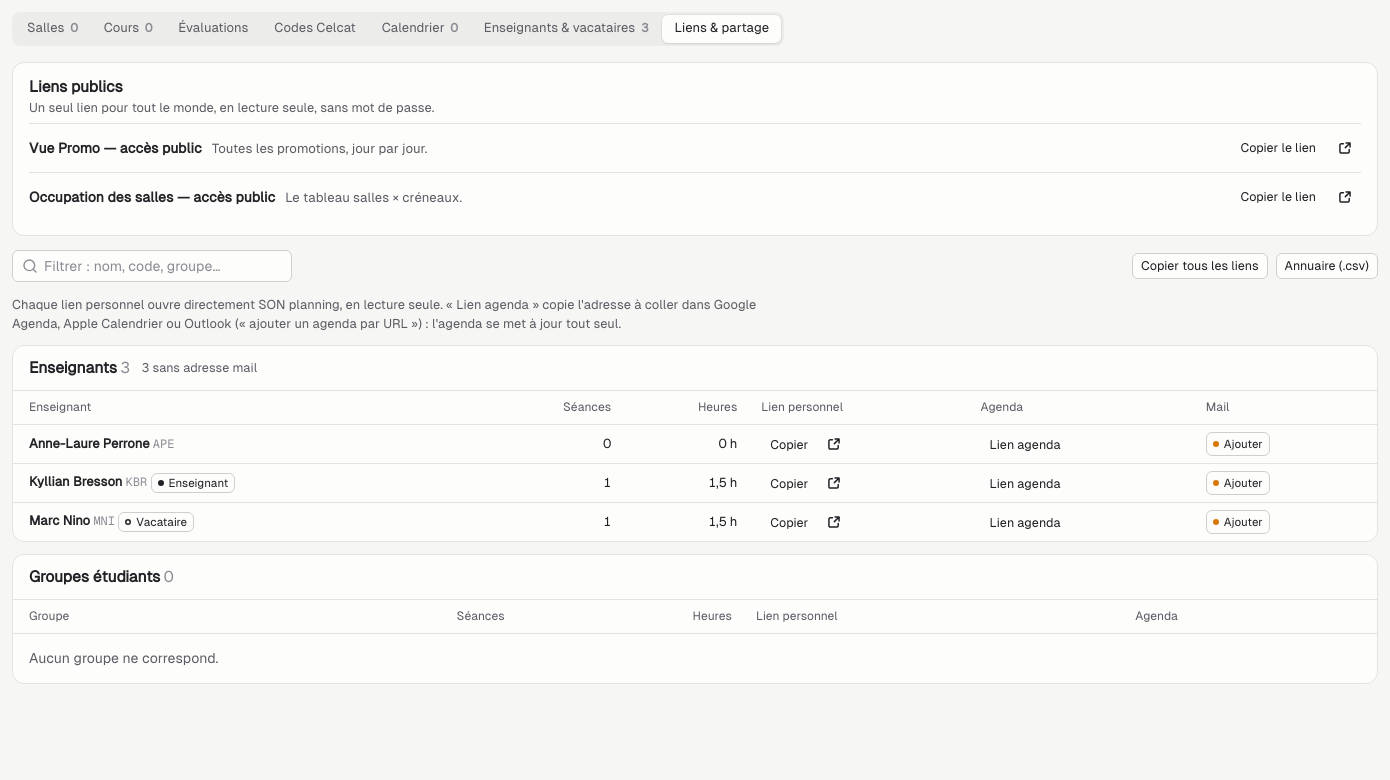
Test case: Une seule source pour le type › « Liens & partage » : même libellé, même type
The width and height of the screenshot is (1390, 780).
Check: the text "Vacataire" is shown, box [118, 512, 194, 532]
Check: the text "Enseignant" is shown, box [150, 473, 235, 493]
In the search field named "Filtrer l'annuaire": (152, 266) [12, 250, 292, 282], type "vacataire"
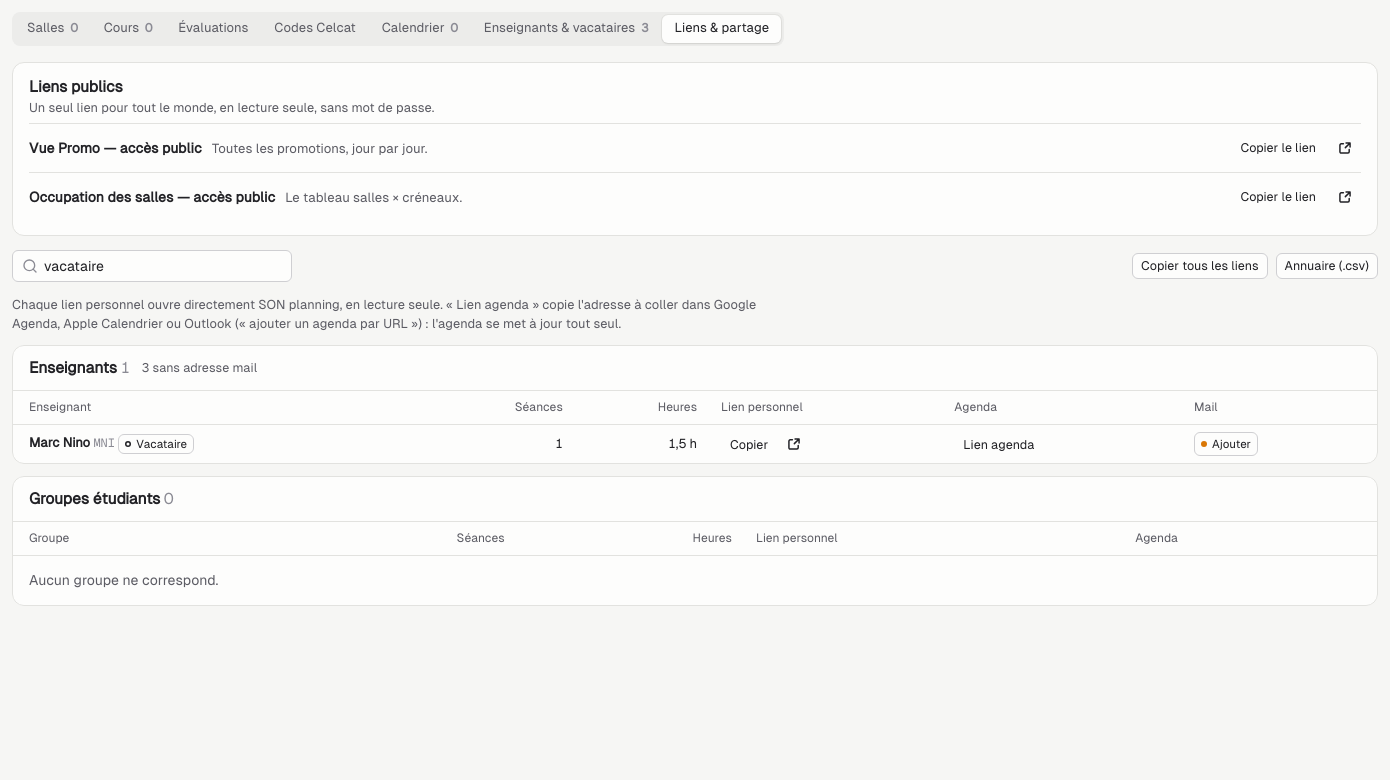
Check: the text "Kyllian Bresson" is gone
